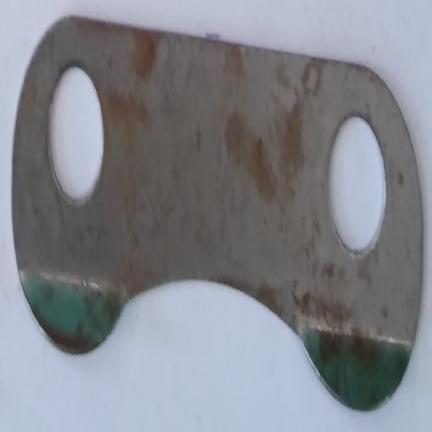karat: (226, 109, 278, 206)
